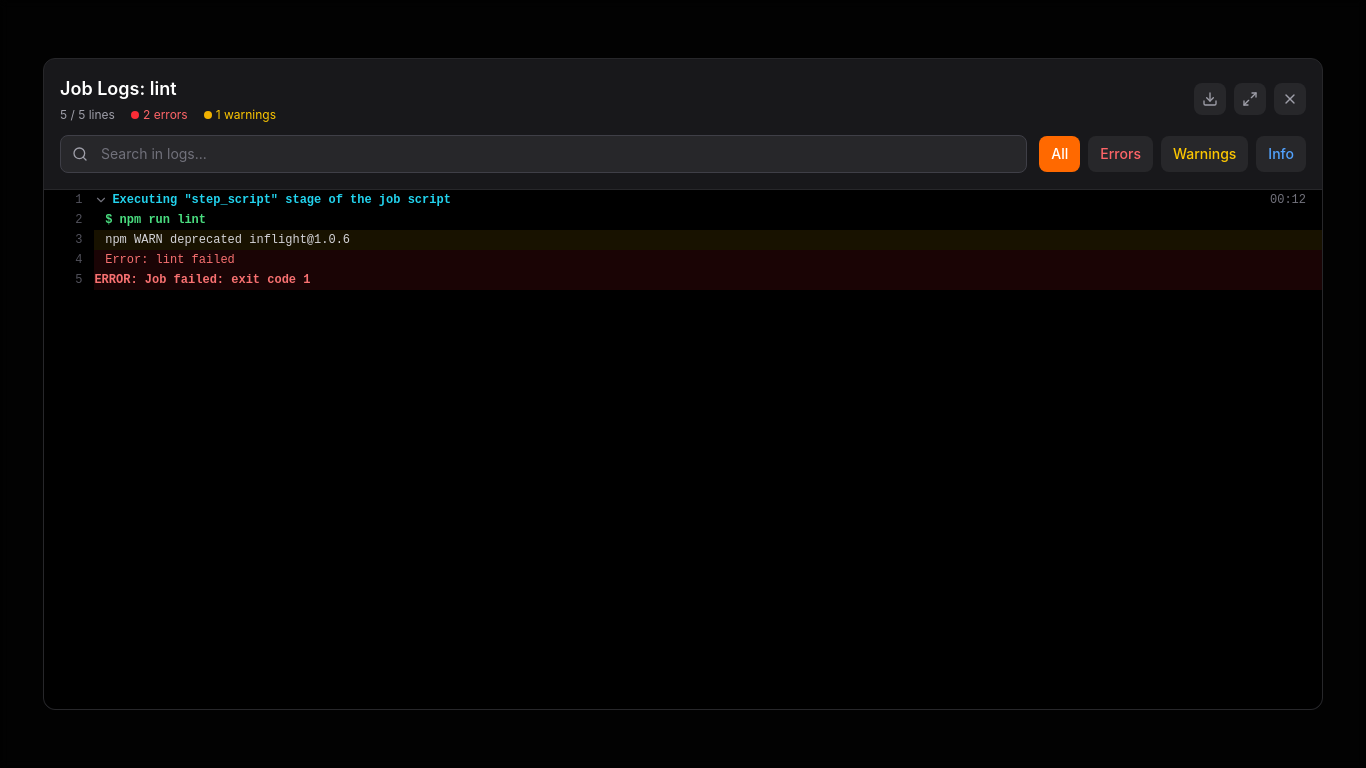
Test: LogViewer › filters by level
Click the button "Warnings".
click(1205, 154)  # box 1161,136 -> 1248,172
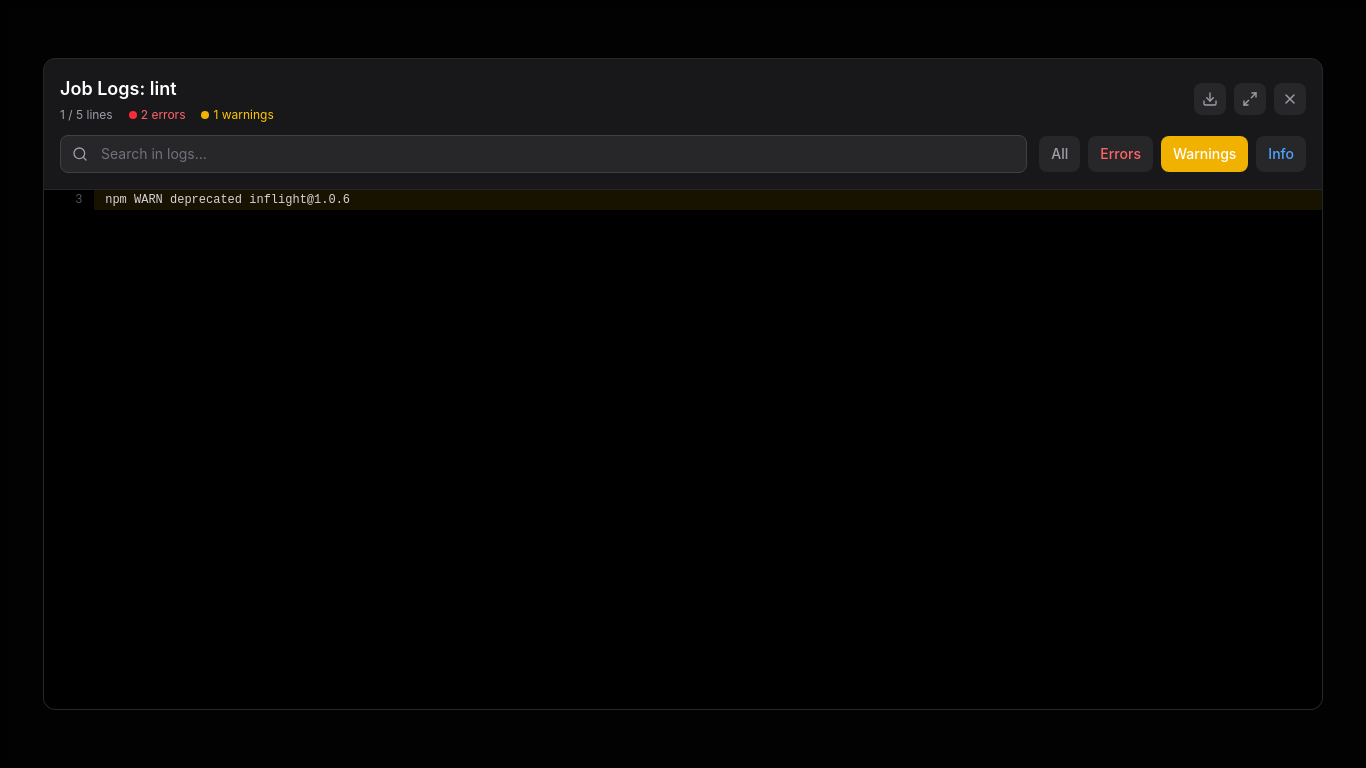
Expected: the text "npm WARN deprecated inflight@1.0.6" is shown, 105,193 -> 350,207
Expected: the text "1 / 5 lines" is shown, 60,107 -> 113,123
Expected: the text "$ npm run lint" is gone
